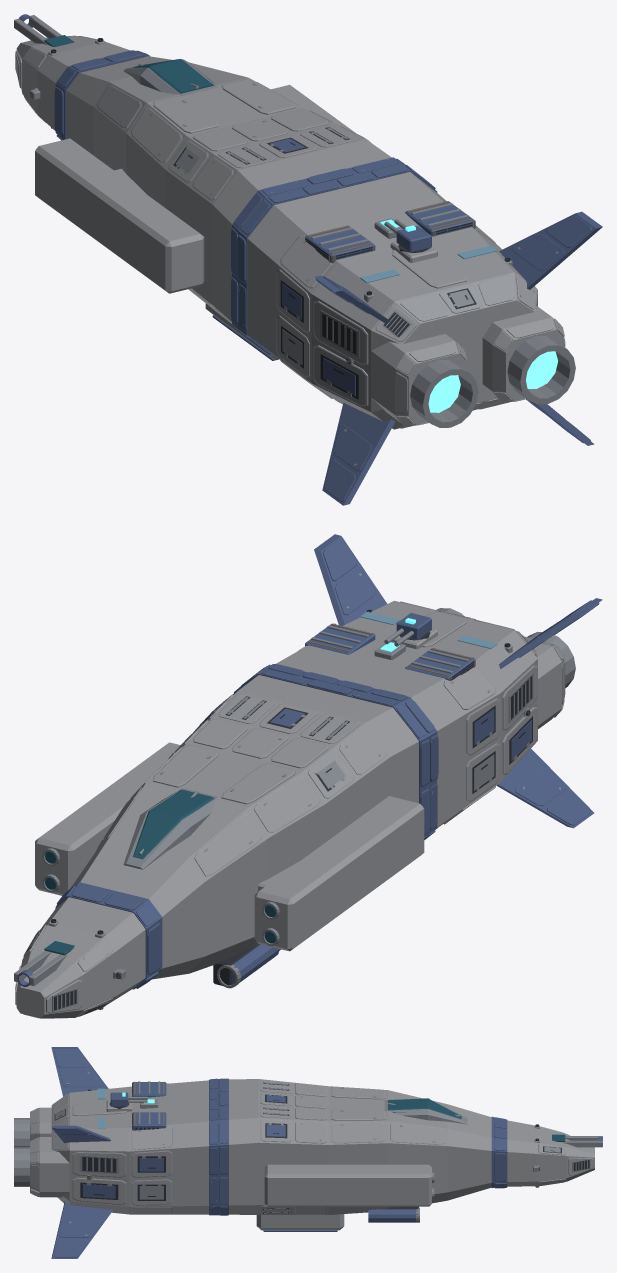
File: earth_recon_t3.glb
3 views of the same model, one above another, from view 1: azimuth 30°, elevation 25°; view 2: azimuth 150°, elevation 25°; view 3: azimuth 270°, elevation 25° (orthographic). The views are drawn at different scales.
Visible parts, largest first — view 1: FleetHull, mesh_pd_yaw_1; view 2: FleetHull; view 3: FleetHull.
Part boxes in pixels (<box>): FleetHull: <box>14,14,602,505</box>; mesh_pd_yaw_1: <box>396,225,431,252</box>; FleetHull: <box>14,534,602,1018</box>; FleetHull: <box>14,1047,602,1258</box>.
Bounding box in the file's own units: 9.64 × 7.61 × 29.6.
